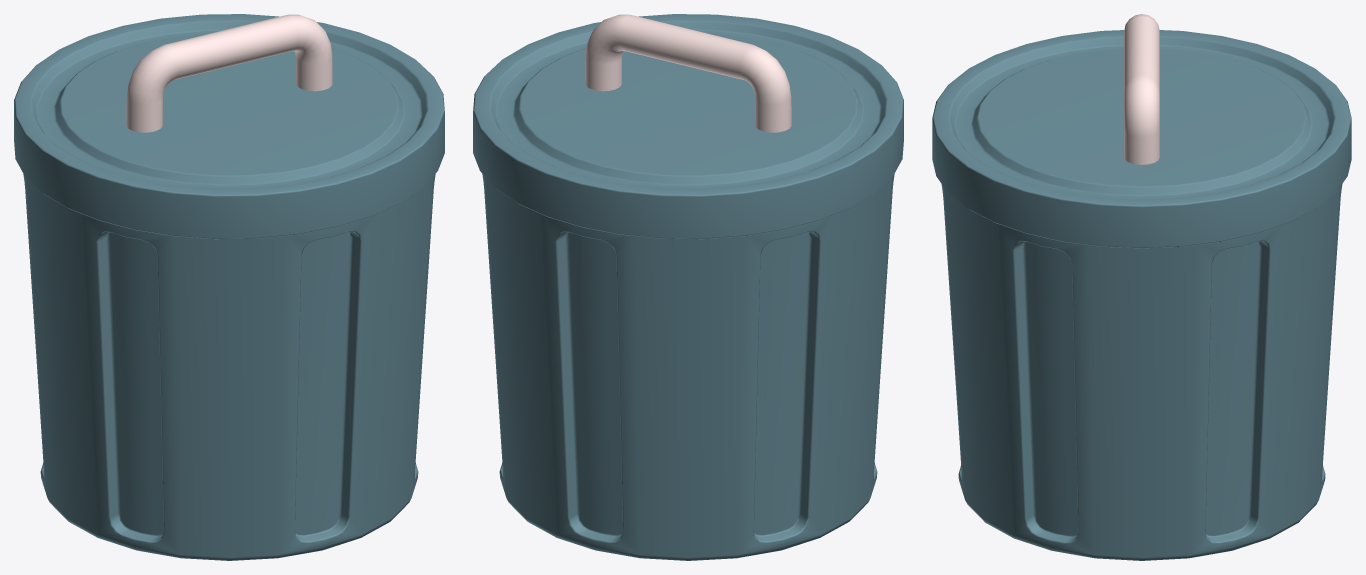
File: City_12_Dustbin_1.glb
3 renders of one model, left to right at view 1: azimuth 30°, elevation 25°; view 2: azimuth 150°, elevation 25°; view 3: azimuth 270°, elevation 25°, orthographic. The views are drawn at different scales.
Visible parts, largest first — view 1: City_12_Dustbin_1; view 2: City_12_Dustbin_1; view 3: City_12_Dustbin_1.
Part boxes in pixels (x1,y1,x2,y2): City_12_Dustbin_1: [14, 14, 444, 560]; City_12_Dustbin_1: [473, 14, 903, 560]; City_12_Dustbin_1: [932, 14, 1351, 560].
Size of the model in its own units: 0.818 by 0.9472 by 0.818.
1 material, 1 textured.
